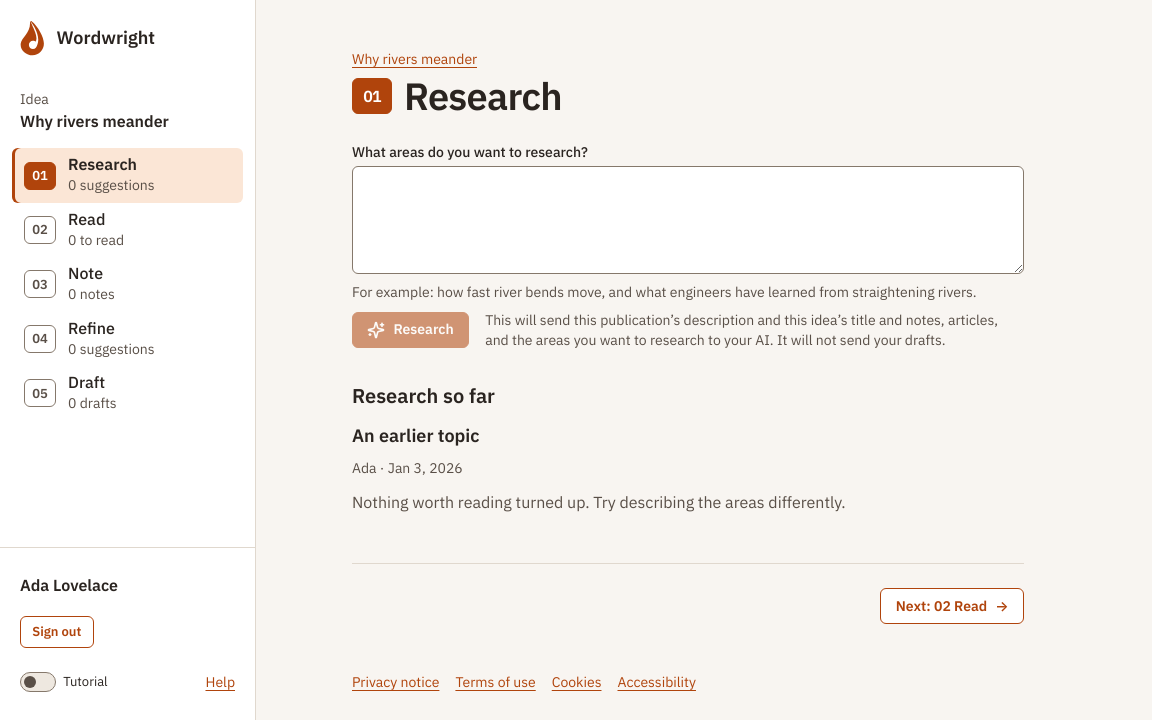
the research page › searches for the areas described, and shows what it found, with the earlier research a step back
Type "  Straightening of rivers " into the text box labelled "What areas do you want to research?" at (688, 220), box [352, 166, 1024, 274]
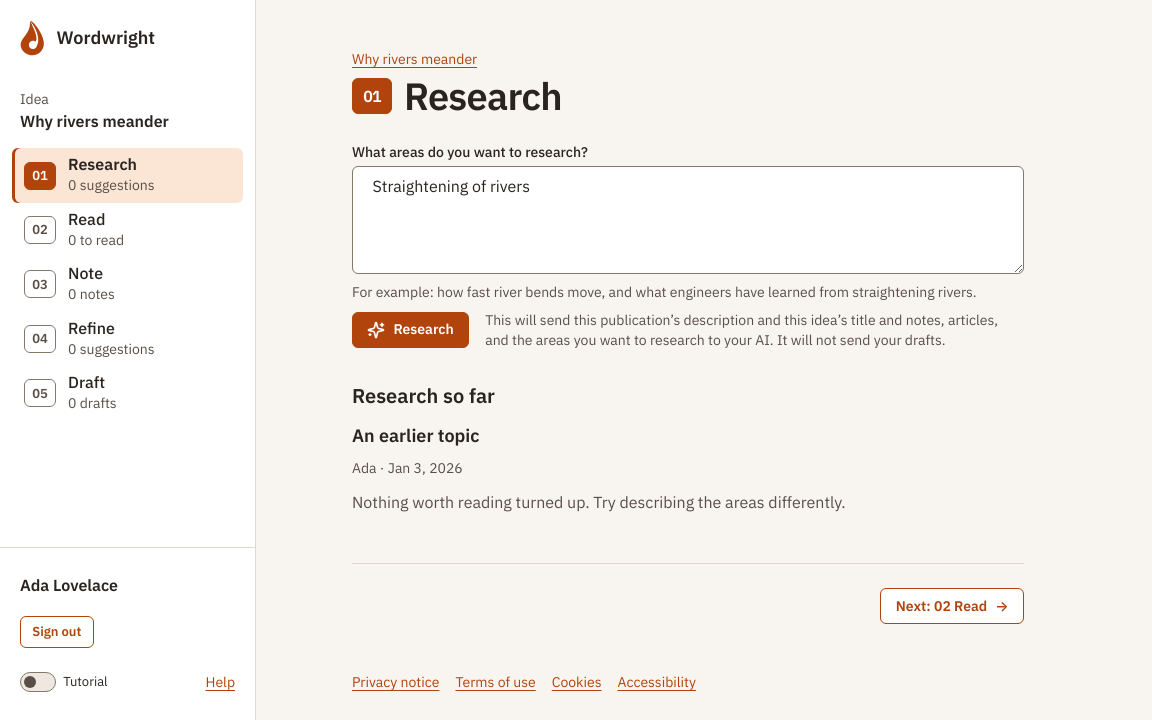
Click the button "Research" at (411, 330), box [352, 312, 469, 348]
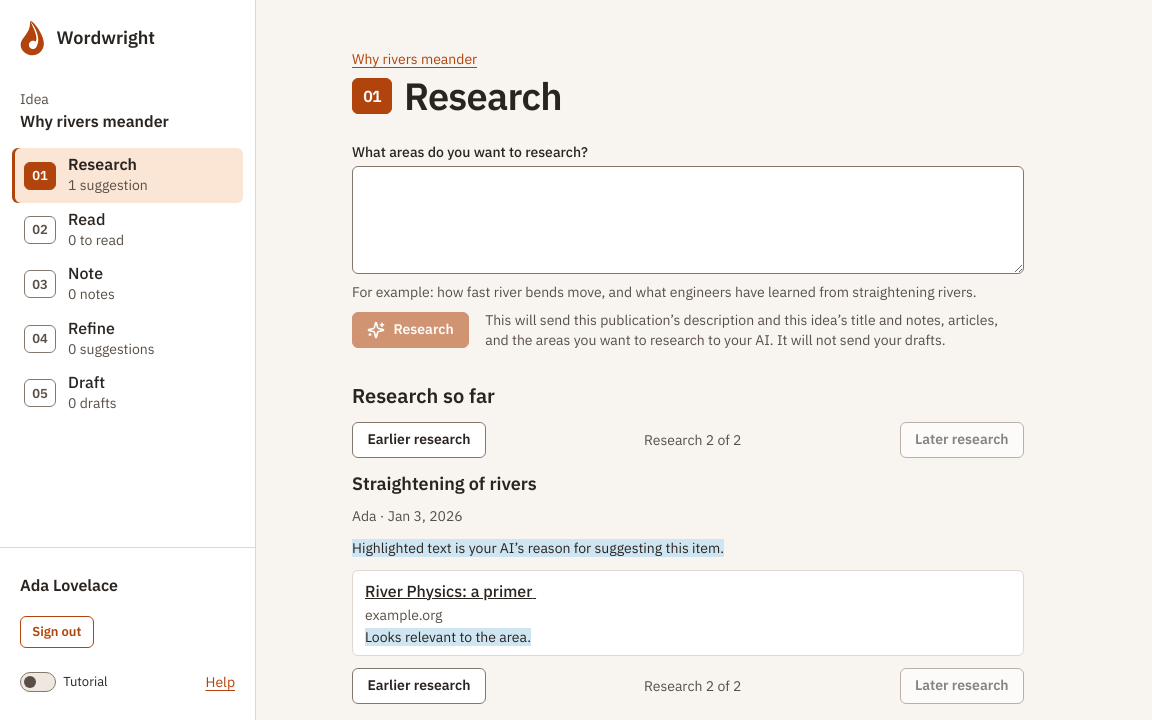
Check: the heading "Straightening of rivers" is shown, box [352, 470, 537, 498]
Check: the link "River Physics: a primer" is shown, box [365, 581, 550, 601]
Check: the heading "An earlier topic" is gone
Click the 1st button "Earlier research" at (419, 440), box [352, 422, 486, 458]
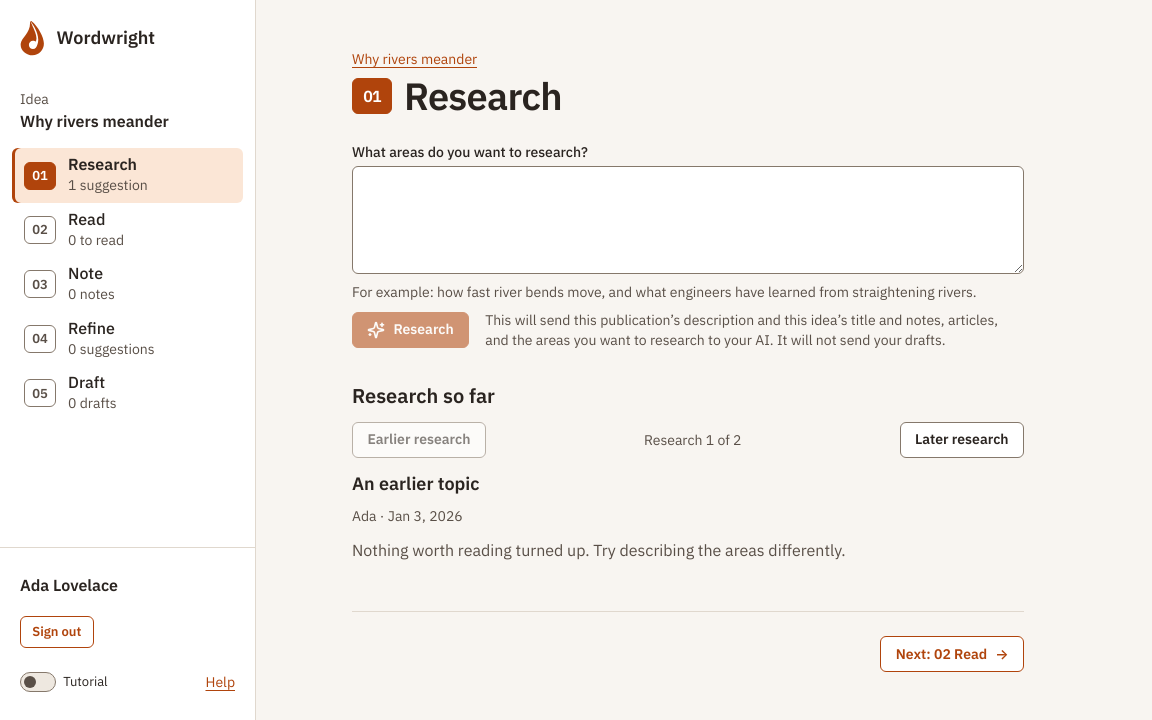
Check: the heading "An earlier topic" is shown, box [352, 470, 480, 498]
